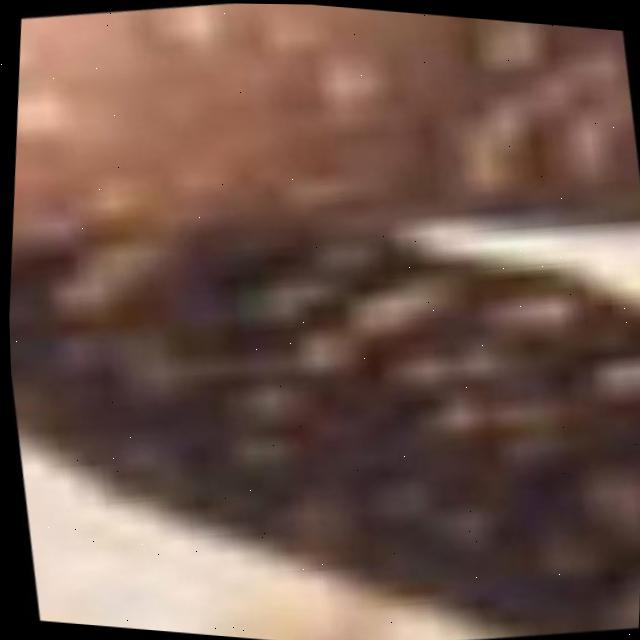Eczema: (42, 1, 625, 584)
